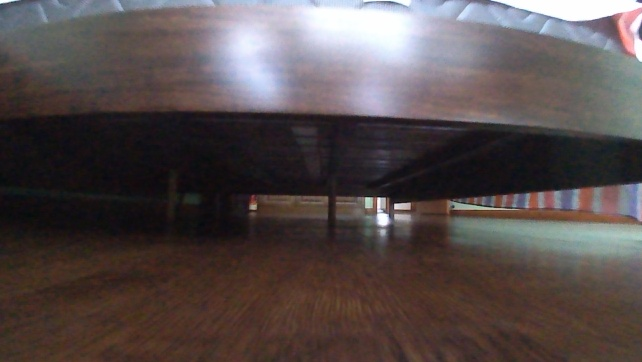bed1: (0, 0, 641, 230)
